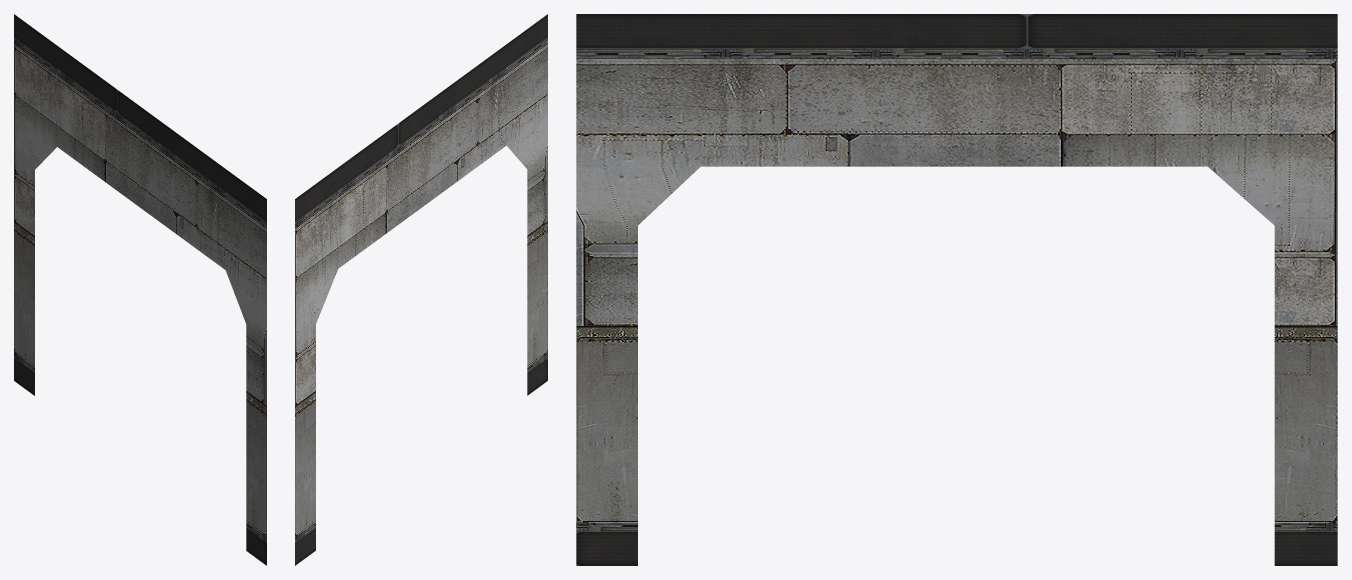
File: Wall_A_Mid4mts_09.fbx
3 views of the same model, side by side, from view 1: azimuth 30°, elevation 25°; view 2: azimuth 150°, elevation 25°; view 3: azimuth 270°, elevation 25° (orthographic). The views are drawn at different scales.
Parts seen in each view (by area): view 1: Wall_A_Mid4mts_09; view 2: Wall_A_Mid4mts_09; view 3: Wall_A_Mid4mts_09.
Part boxes in pixels (box(x1,y1,x2,y2)): Wall_A_Mid4mts_09: box(14, 14, 266, 565); Wall_A_Mid4mts_09: box(295, 14, 547, 565); Wall_A_Mid4mts_09: box(576, 14, 1337, 565).
Size of the model in its own units: 0.000244 by 400 by 500.
Materials: 1 (1 with a texture image).
